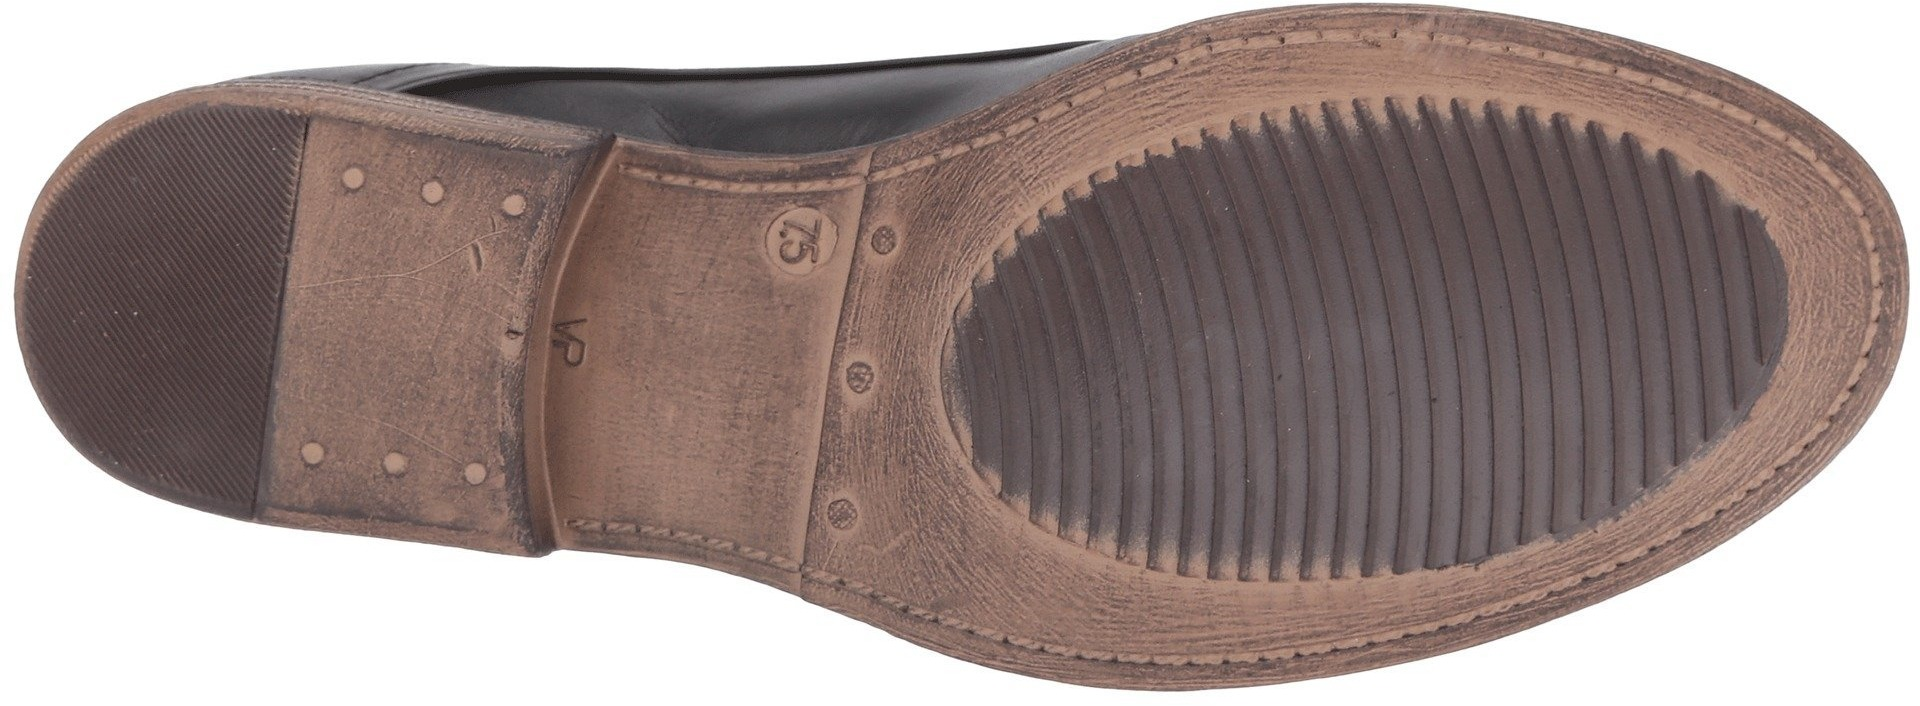circle: (740, 192, 853, 308), (825, 343, 904, 440), (807, 477, 884, 556)
other: (1160, 135, 1611, 522), (53, 175, 276, 393), (291, 255, 493, 449)
text: (740, 192, 853, 308)
